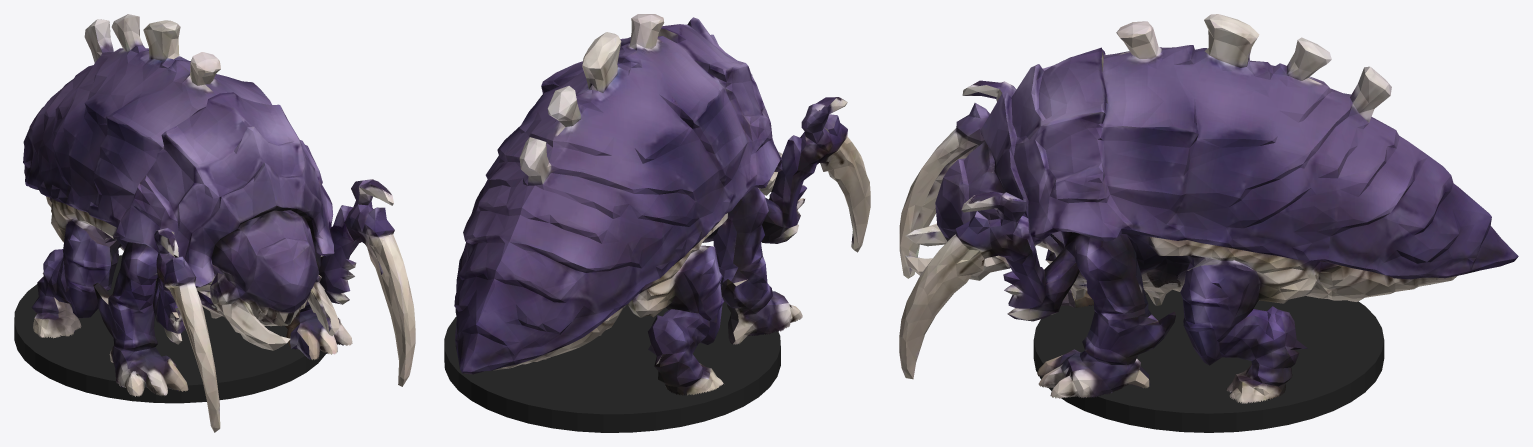
File: roach.glb
3 views of the same model, side by side, from view 1: azimuth 30°, elevation 25°; view 2: azimuth 150°, elevation 25°; view 3: azimuth 270°, elevation 25° (orthographic). The views are drawn at different scales.
Visible parts, largest first — view 1: figure, base; view 2: figure, base; view 3: figure, base.
Boxes of the visible parts, x1,y1,x2,y2 form: figure: [23, 14, 415, 432]; base: [14, 255, 326, 403]; figure: [454, 14, 870, 395]; base: [444, 302, 780, 432]; figure: [899, 14, 1518, 403]; base: [1033, 289, 1384, 432].
Bounding box in the file's own units: 1.97 × 2.12 × 3.48.
2 materials, 1 textured.
